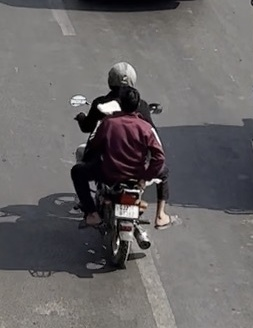BikeWithRider: (66, 60, 183, 270)
Helmet: (120, 87, 143, 117)
NoHelmet: (105, 60, 140, 91)
